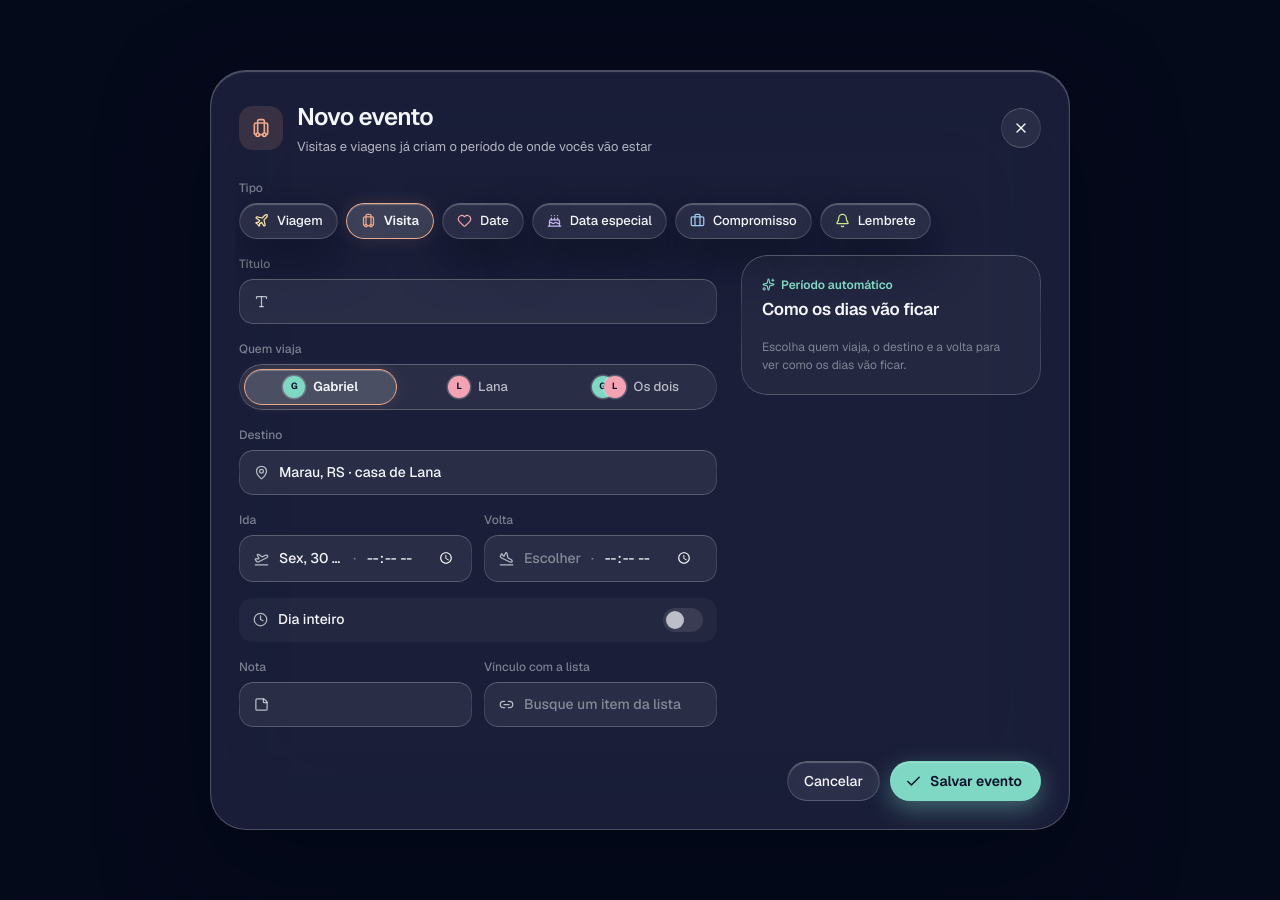
Test: A18 — salvar (R19) › validateEvent aponta o campo: sem título, sem destino
The image size is (1280, 900).
Click the button "Viagem" at {"x": 288, "y": 220}, box [239,202,338,238]
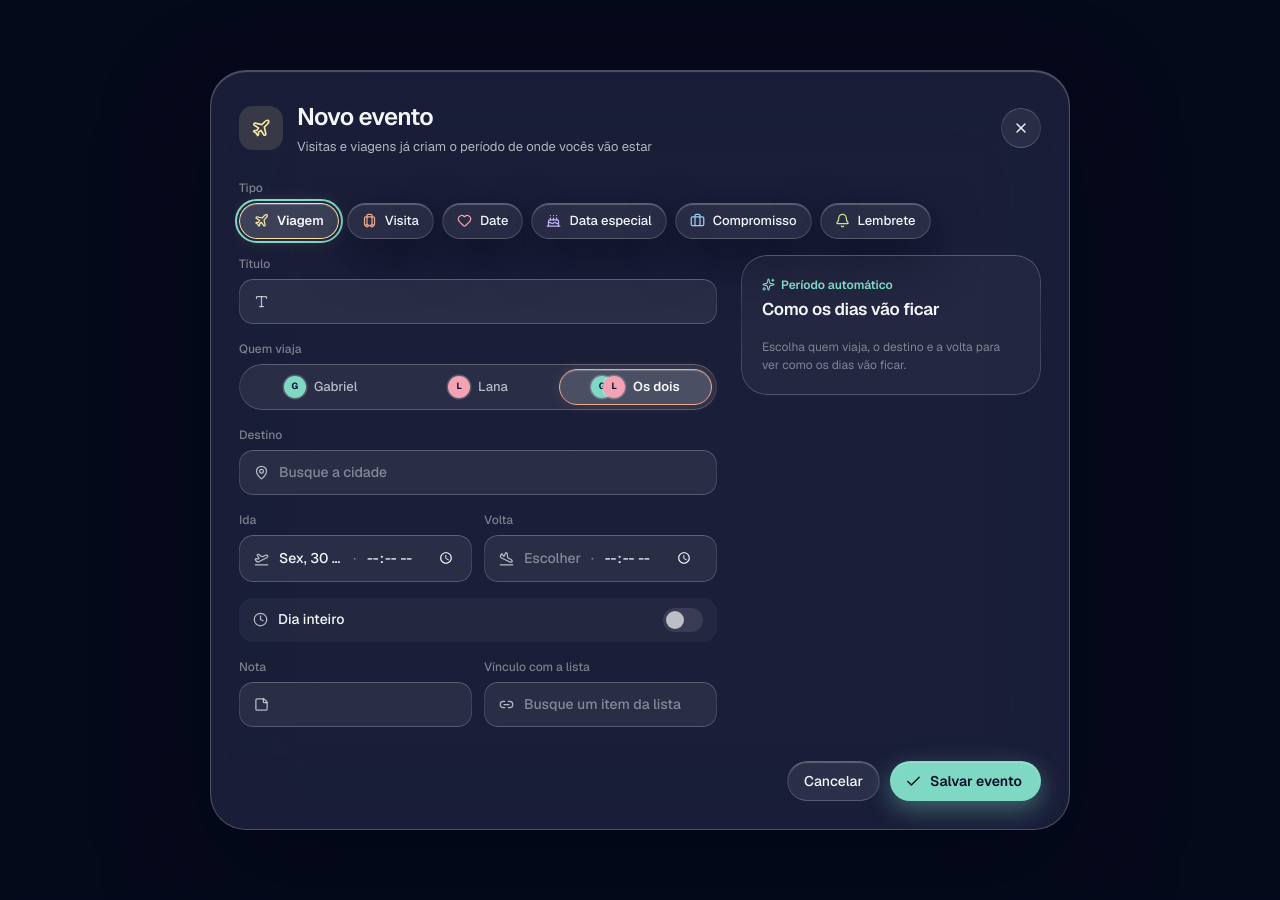
Click the button "Salvar evento" at {"x": 966, "y": 781}, box [890,761,1041,801]
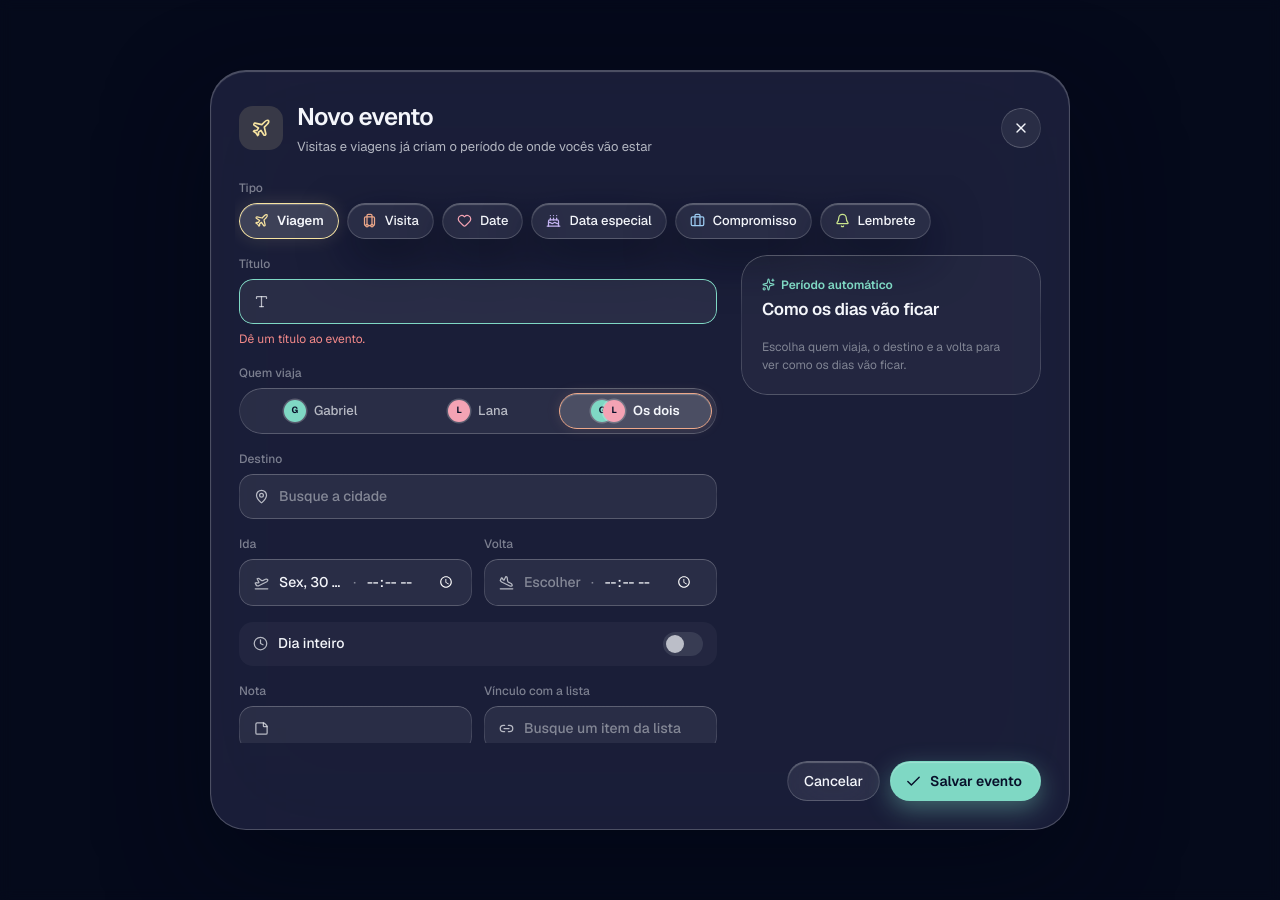
Expected: the message reads "Dê um título ao evento.", [239,330,365,346]
Type "Paraty" into the field labelled "Título" at {"x": 490, "y": 301}, box [279,280,702,322]
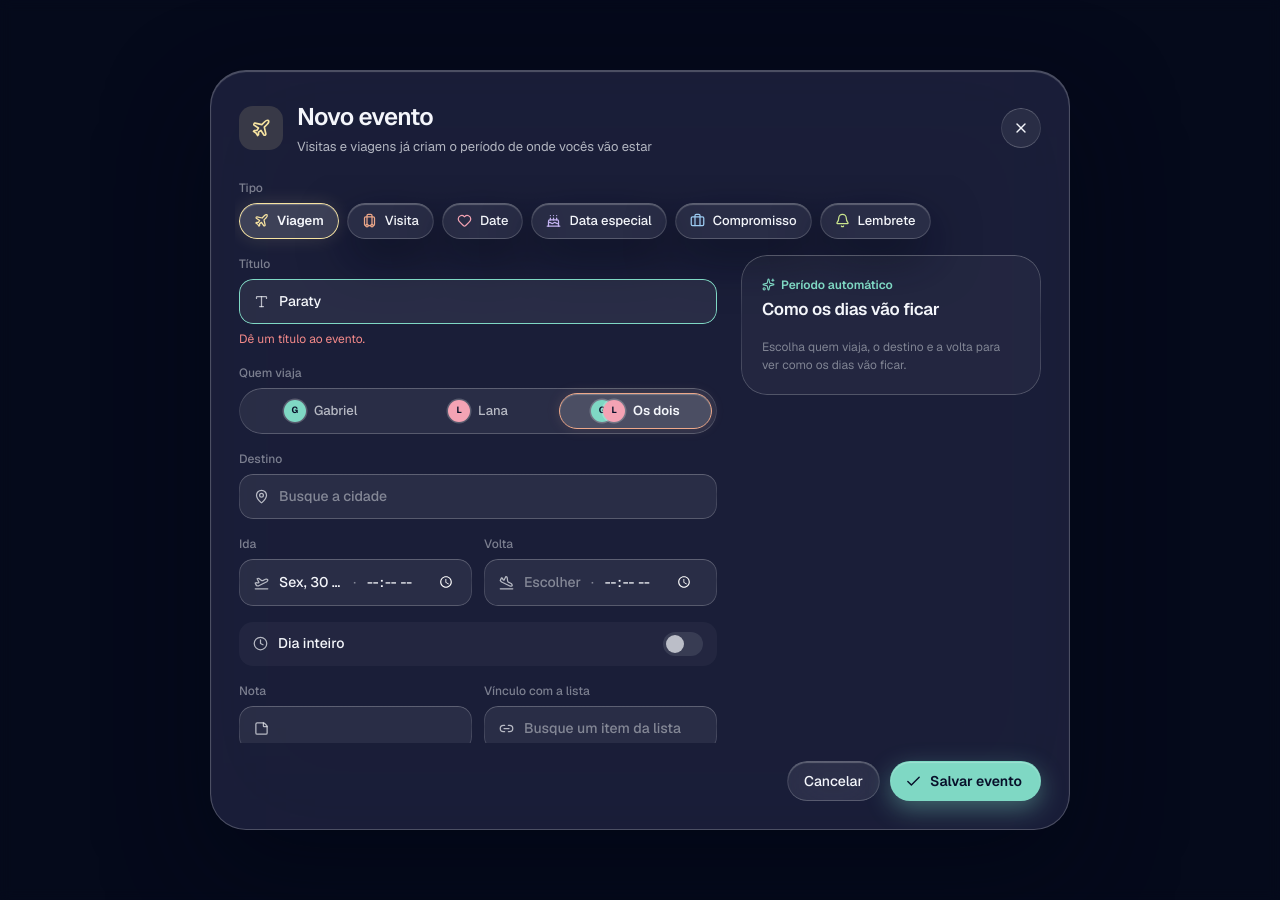
Click the button "Salvar evento" at {"x": 966, "y": 781}, box [890,761,1041,801]
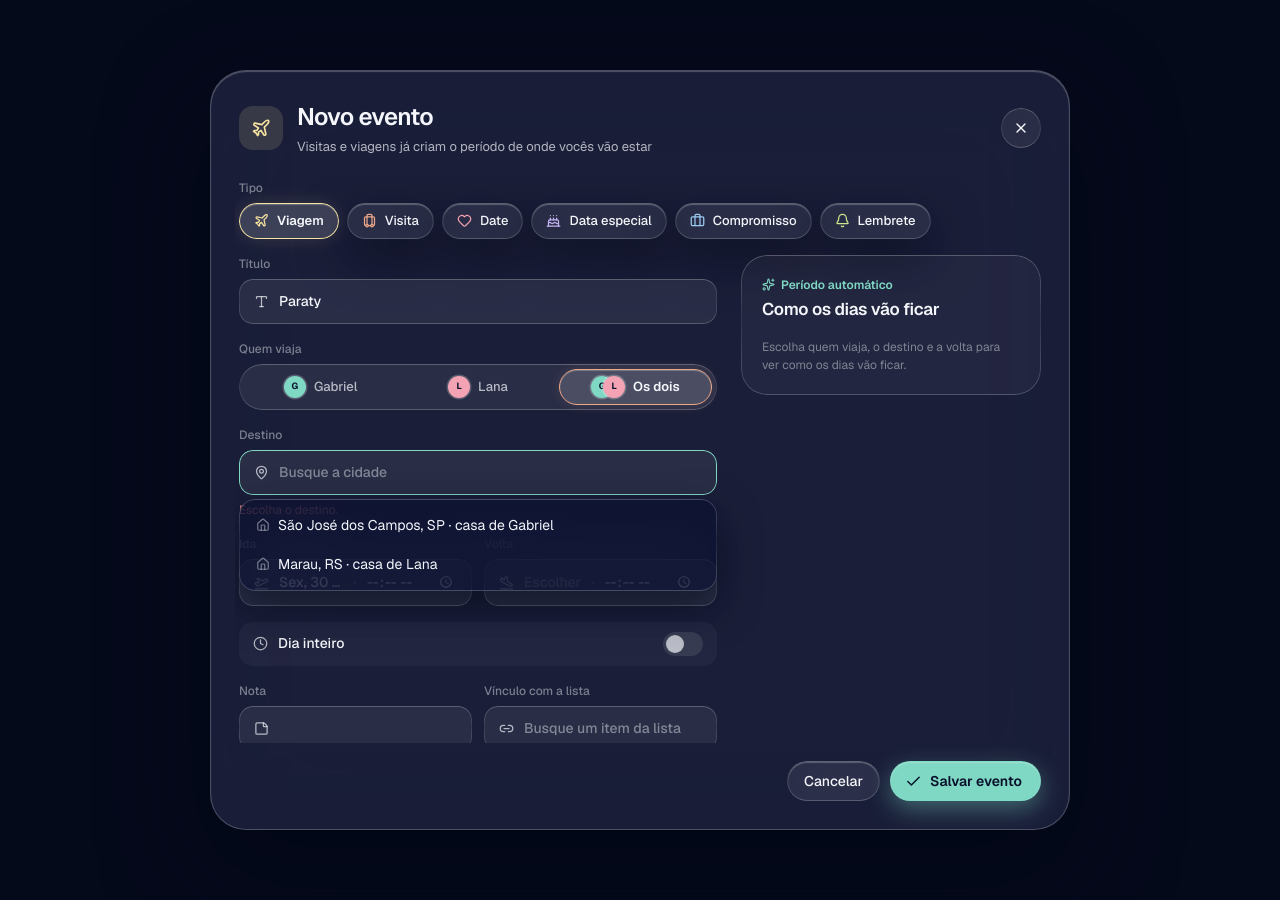
Expected: the message reads "Escolha o destino.", [239,502,338,518]
